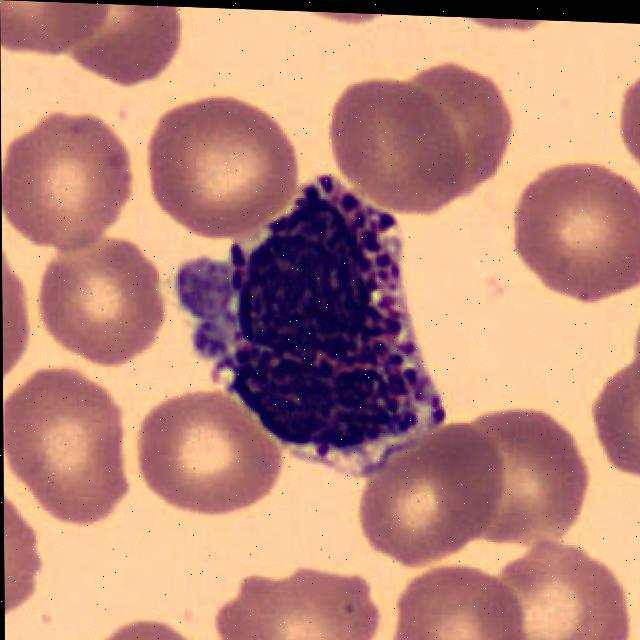basophil: (231, 172, 426, 457)
platelets: (169, 251, 240, 318), (185, 308, 246, 361)
rbc: (349, 409, 502, 573), (1, 100, 144, 262), (455, 400, 597, 561), (148, 93, 306, 233), (505, 155, 640, 317), (3, 356, 127, 529), (315, 70, 474, 201), (131, 392, 290, 522), (485, 530, 638, 640), (41, 233, 163, 361), (414, 61, 536, 169), (216, 564, 383, 640), (36, 1, 190, 82), (387, 560, 529, 640), (0, 0, 123, 55), (595, 353, 640, 497), (4, 479, 48, 612), (69, 601, 198, 640), (2, 229, 28, 403), (612, 60, 640, 166), (290, 11, 422, 29), (633, 301, 640, 381)
